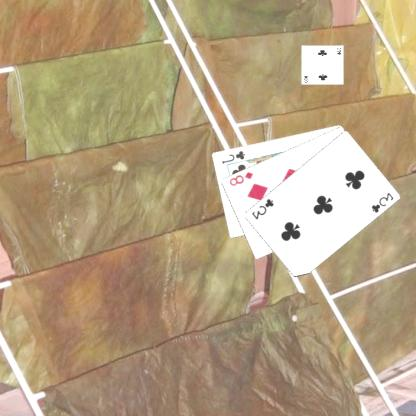3C: (250, 196, 276, 221), (370, 190, 396, 214)
8D: (228, 169, 257, 187)
JC: (220, 148, 248, 165)
